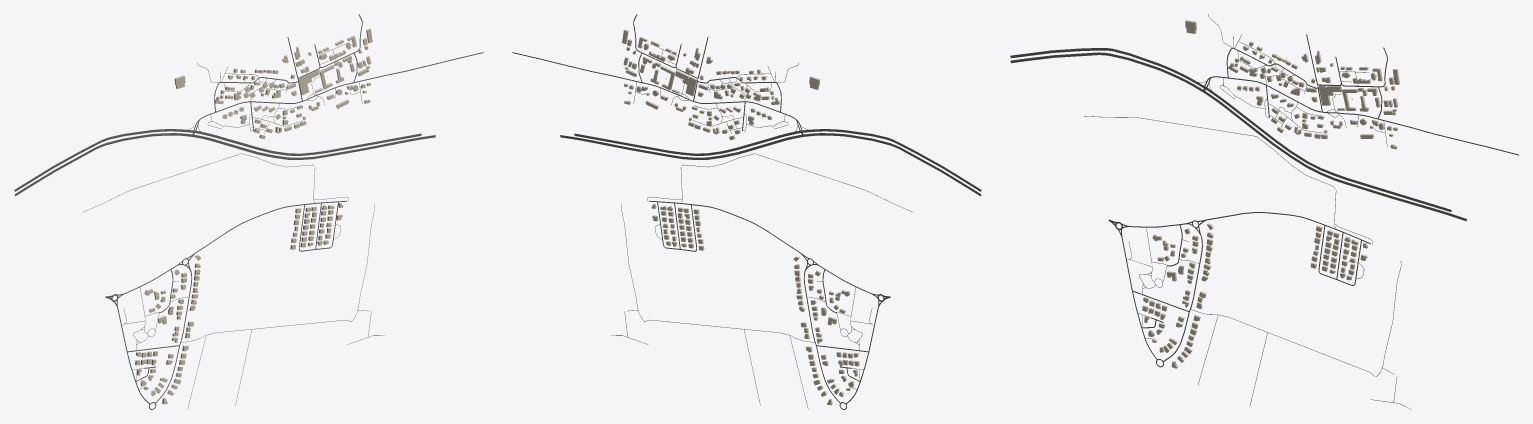
Rendered from historic-palestine-07_25_3492_3195.glb.
3 views of the same model, side by side, from view 1: azimuth 30°, elevation 25°; view 2: azimuth 150°, elevation 25°; view 3: azimuth 330°, elevation 25° (orthographic). The views are drawn at different scales.
Parts seen in each view (by area): view 1: Road 443.001, Road 443, Road 443.002, Road; view 2: Road 443.001, Road 443, Road 443.002, Road; view 3: Road 443.001, Road 443, Road 443.002, Road.
Part boxes in pixels (<box>): Road 443.001: <box>14,129,421,191</box>; Road 443: <box>192,134,435,159</box>; Road 443.002: <box>14,133,167,196</box>; Road: <box>199,52,483,119</box>; Road 443.001: <box>574,129,981,191</box>; Road 443: <box>560,134,803,159</box>; Road 443.002: <box>828,133,981,196</box>; Road: <box>512,52,796,119</box>; Road 443.001: <box>1010,48,1451,211</box>; Road 443: <box>1203,91,1466,221</box>; Road 443.002: <box>1010,52,1176,77</box>; Road: <box>1211,76,1518,155</box>.
Bounding box in the file's own units: 1679 × 1236 × 8.7.
